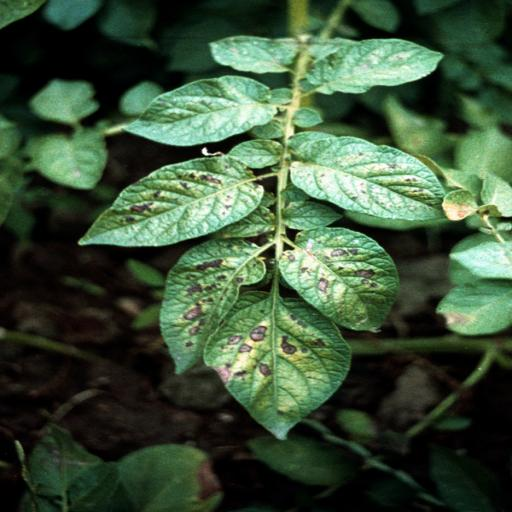disease_tomato: (202, 288, 354, 440), (78, 152, 266, 250), (158, 236, 268, 376), (280, 224, 397, 334)
